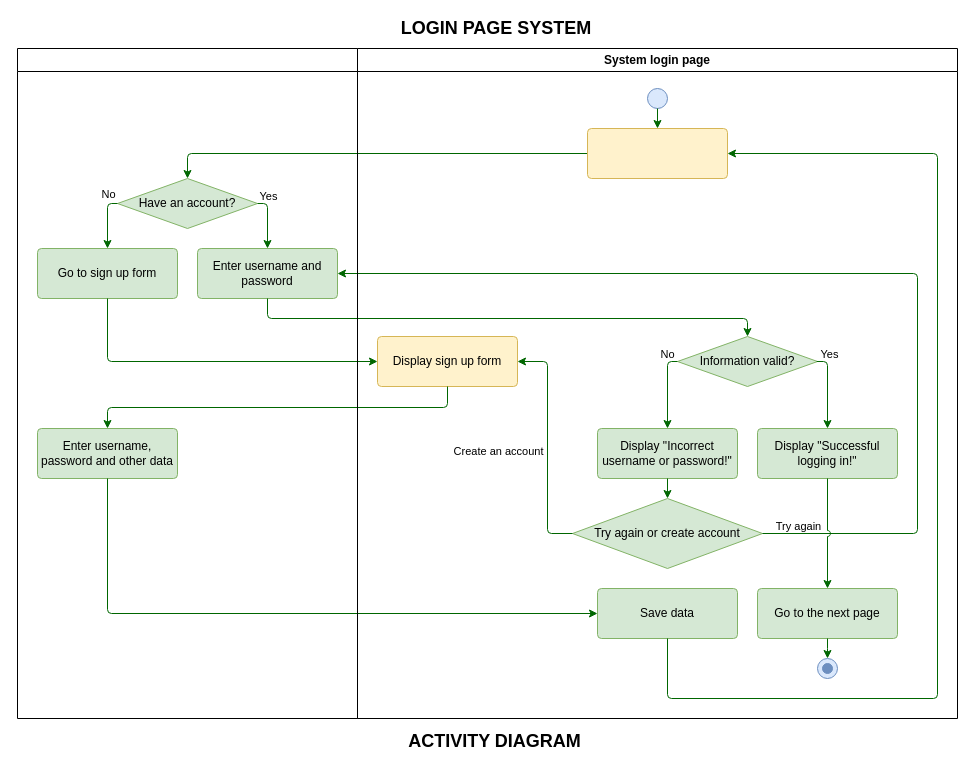
Image size: 975x770. Some labels were removed from this diagram. Here are the shapes that lost their labels. From the top down, the centre of each, then its label:
At point 657,153: "Display login form".
At point 187,383: "User".
